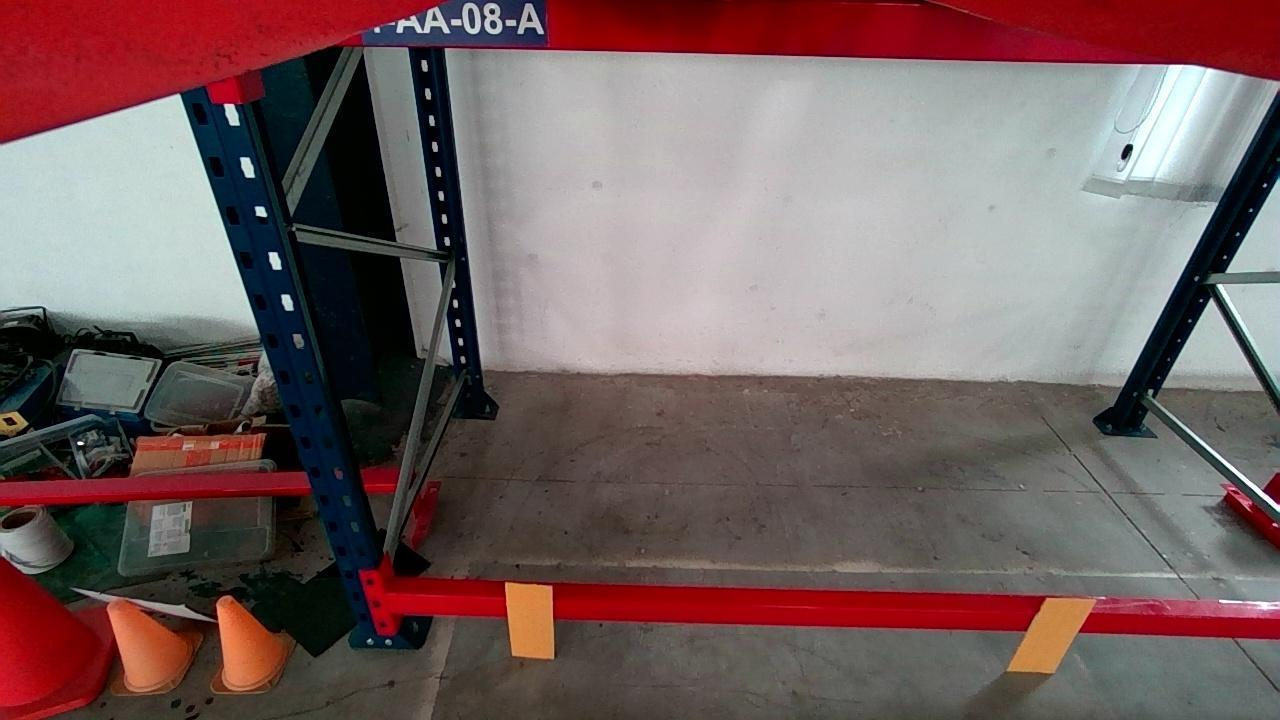h_rack: (343, 0, 1159, 63), (388, 591, 1280, 640)
orange_strip: (1008, 591, 1097, 674), (506, 583, 555, 656)
